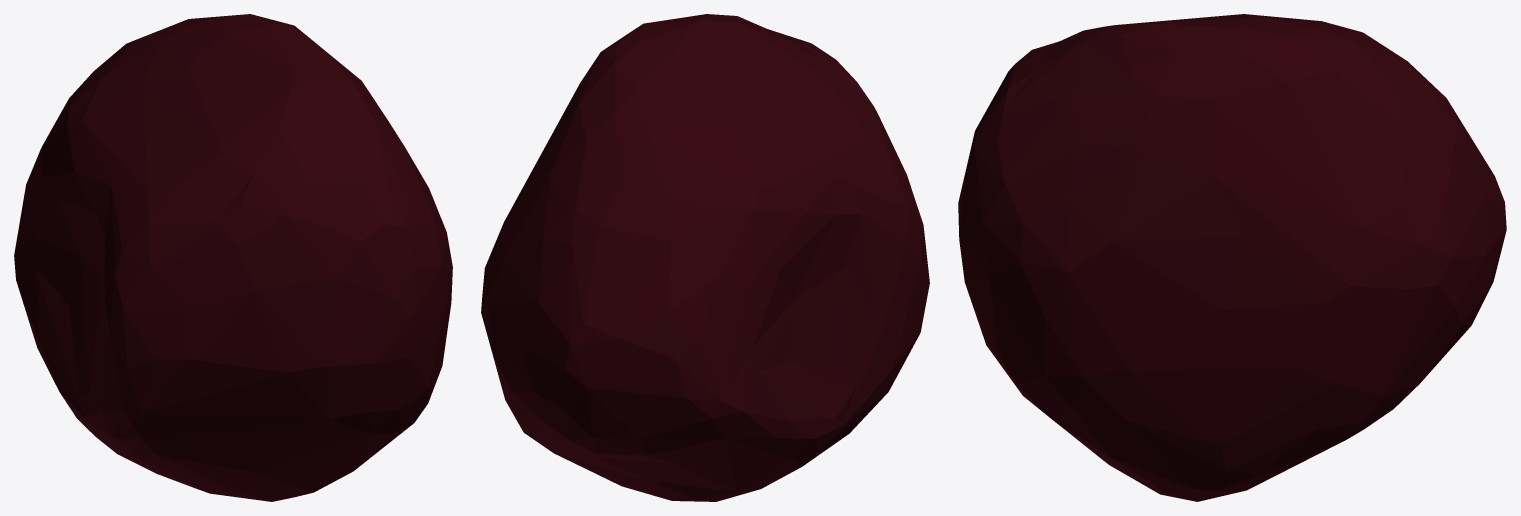
File: rock.fbx
3 renders of one model, left to right at view 1: azimuth 30°, elevation 25°; view 2: azimuth 150°, elevation 25°; view 3: azimuth 270°, elevation 25°, orthographic. The views are drawn at different scales.
Visible parts, largest first — view 1: Плоскость.001; view 2: Плоскость.001; view 3: Плоскость.001.
Boxes of the visible parts, x1,y1,x2,y2 form: Плоскость.001: (14, 14, 452, 501); Плоскость.001: (481, 14, 929, 501); Плоскость.001: (958, 14, 1506, 501).
Bounding box in the file's own units: 6520 × 8786 × 9309.
